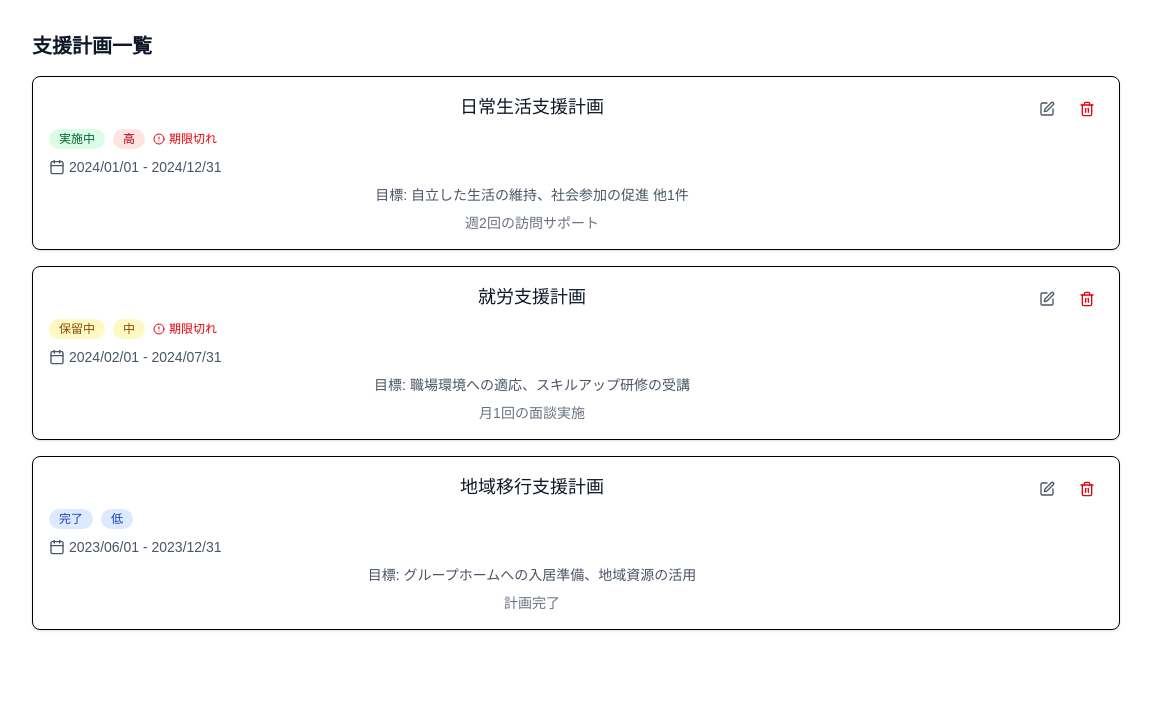
Test: SupportPlanList › 操作機能 › 削除確認ダイアログが表示される
Click the button named "削除" in the row of "日常生活支援計画" at (1087, 109), box [1071,93,1103,125]
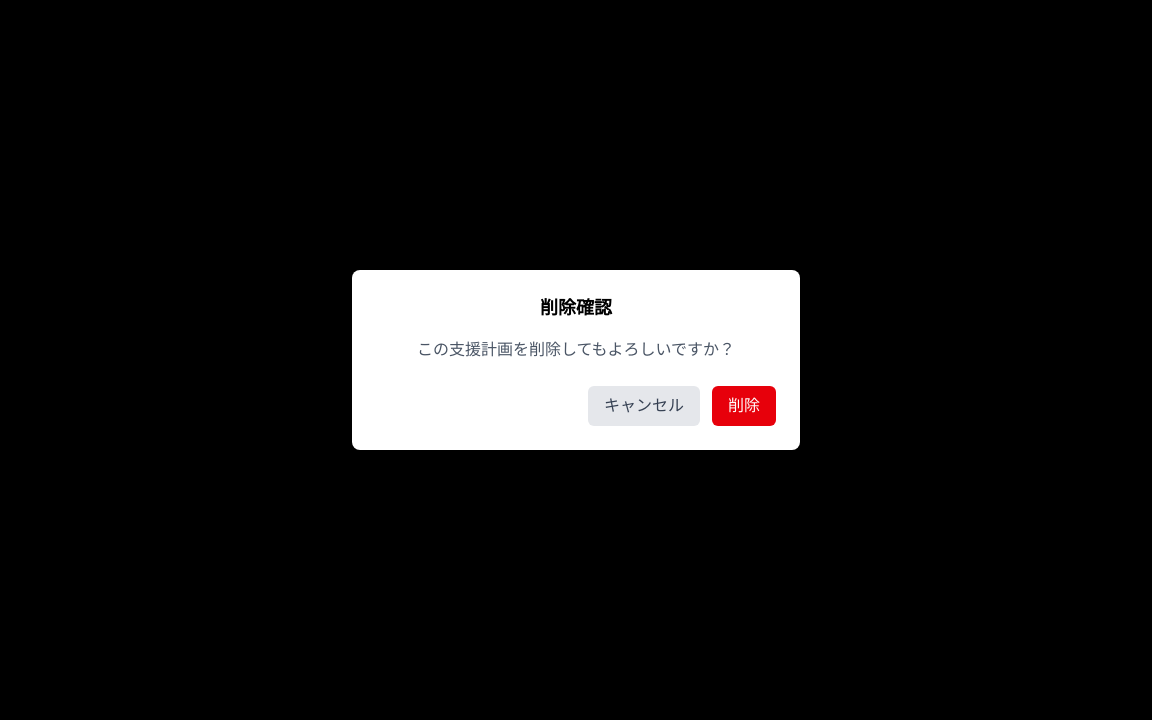
Expected: the heading "削除確認" is shown, [540,298,612,318]
Expected: the text "この支援計画を削除してもよろしいですか？" is shown, [417,341,735,358]
